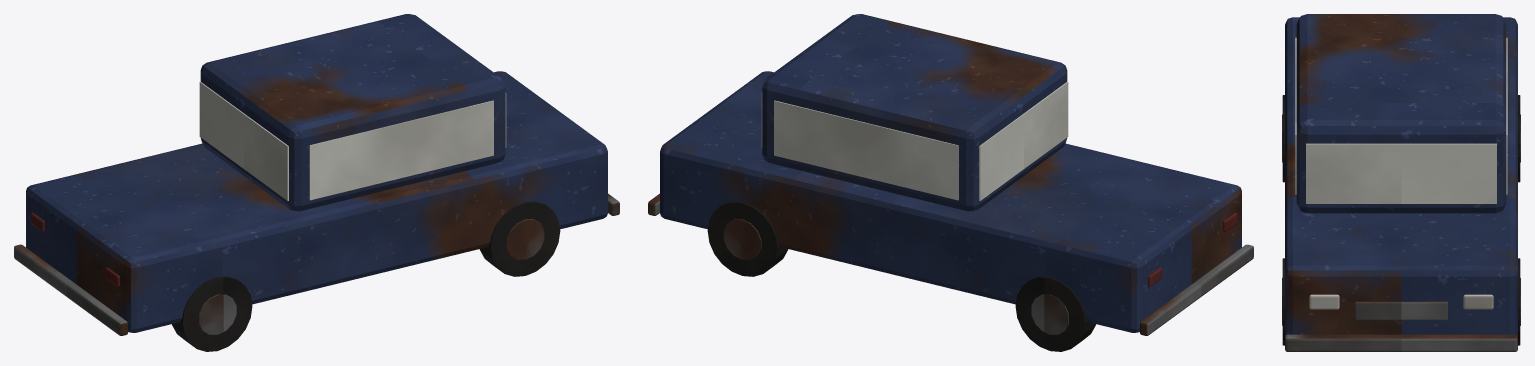
The model's file is CV01_old_sedan_v1.glb.
3 views of the same model, side by side, from view 1: azimuth 30°, elevation 25°; view 2: azimuth 150°, elevation 25°; view 3: azimuth 270°, elevation 25° (orthographic). The views are drawn at different scales.
Parts seen in each view (by area): view 1: CV01_old_sedan_v1; view 2: CV01_old_sedan_v1; view 3: CV01_old_sedan_v1.
Part boxes in pixels (x1,y1,x2,y2): CV01_old_sedan_v1: (14, 14, 619, 351); CV01_old_sedan_v1: (648, 14, 1253, 351); CV01_old_sedan_v1: (1282, 14, 1520, 351).
Size of the model in its own units: 4.4 by 1.64 by 1.67.
6 materials, 6 textured.
